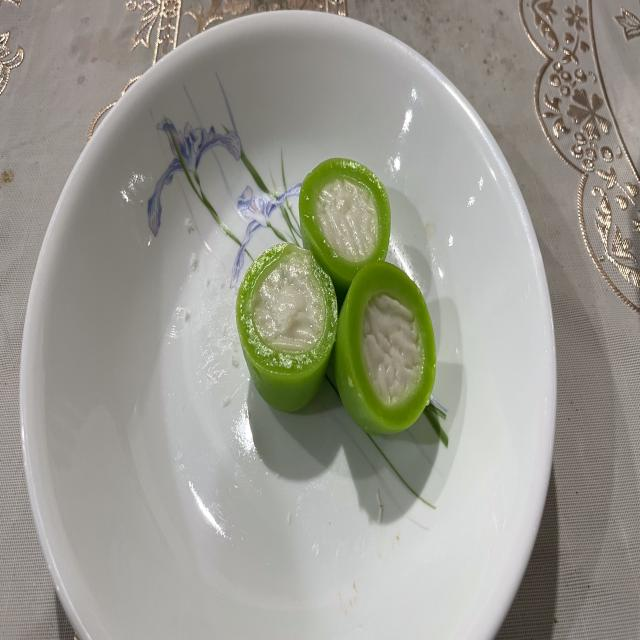nona-manis: (334, 260, 436, 436), (236, 242, 338, 411), (299, 158, 390, 304)
